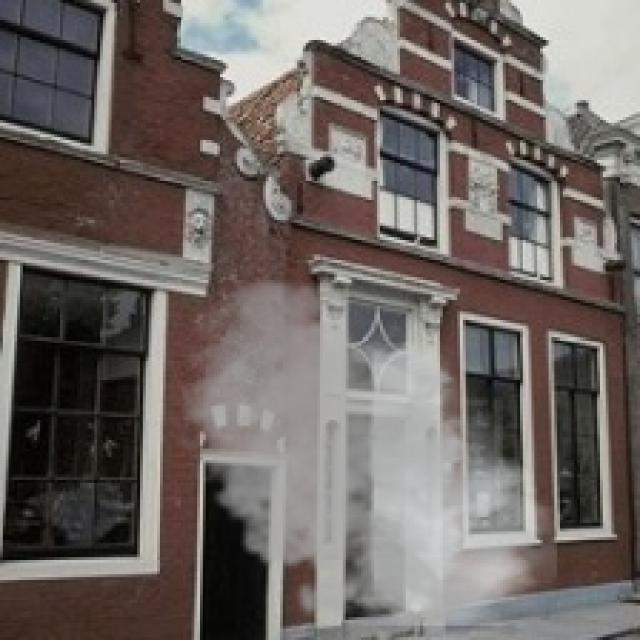Smoke: (165, 272, 560, 637)
